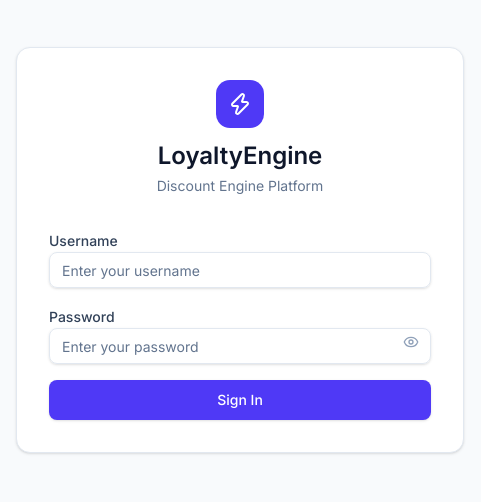
Test: LoginPage › shows error on failed login
The image size is (481, 502).
Type "admin" into the field labelled "Username" at (240, 270), box [49, 252, 431, 288]
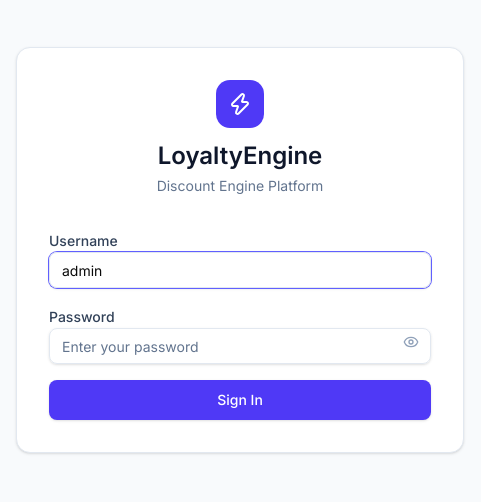
Type "wrong" into the password field labelled "Password" at (240, 346), box [49, 328, 431, 364]
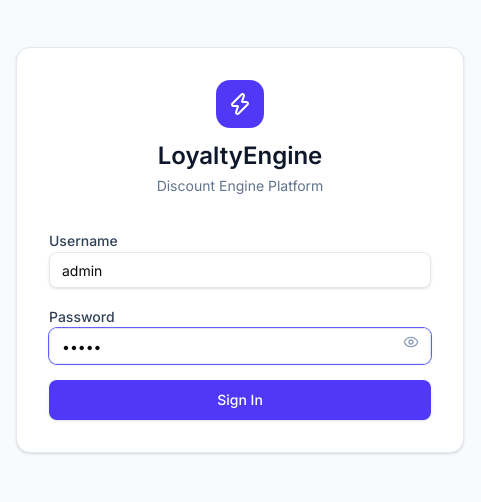
Click the button "Sign In" at (240, 400), box [49, 380, 431, 420]
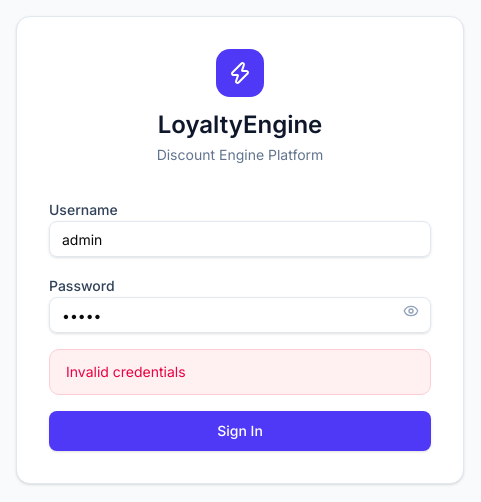
Check: the text "Invalid credentials" is shown, box [66, 363, 186, 380]
